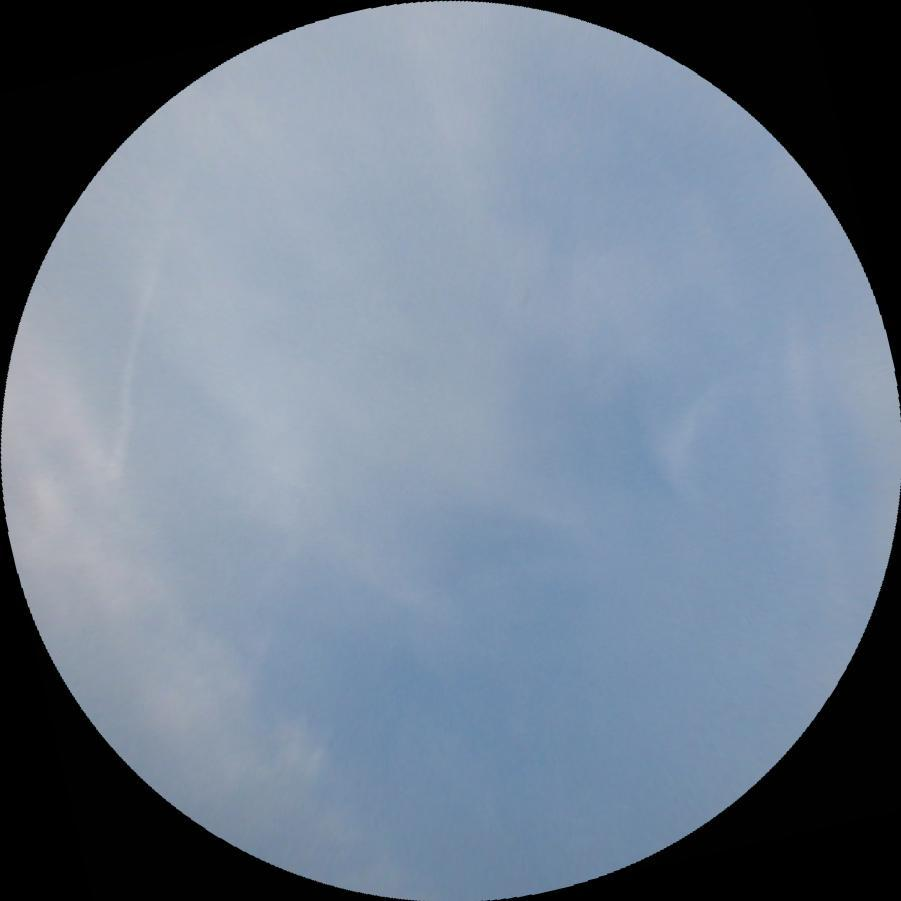contrail old: (106, 207, 173, 481)
